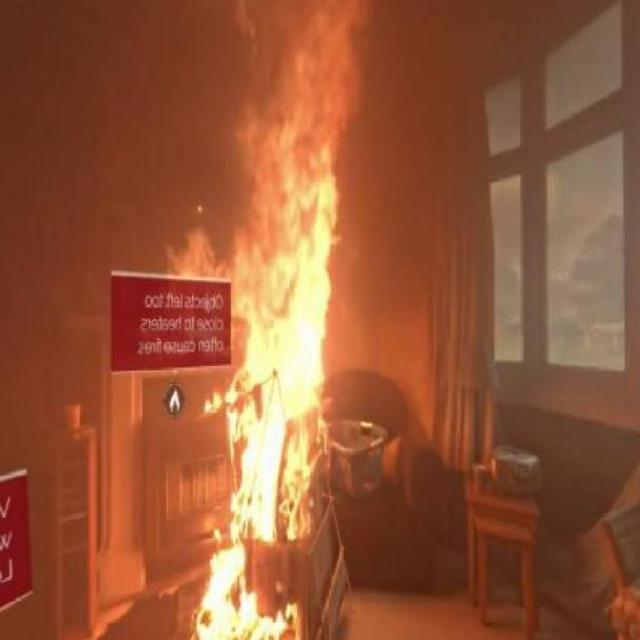smoke: (220, 126, 340, 544), (191, 545, 305, 640)
